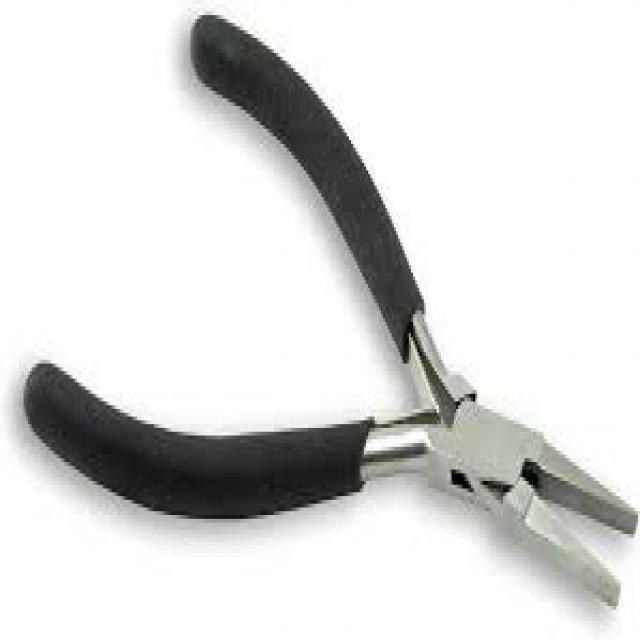pliers: (17, 8, 635, 608)
